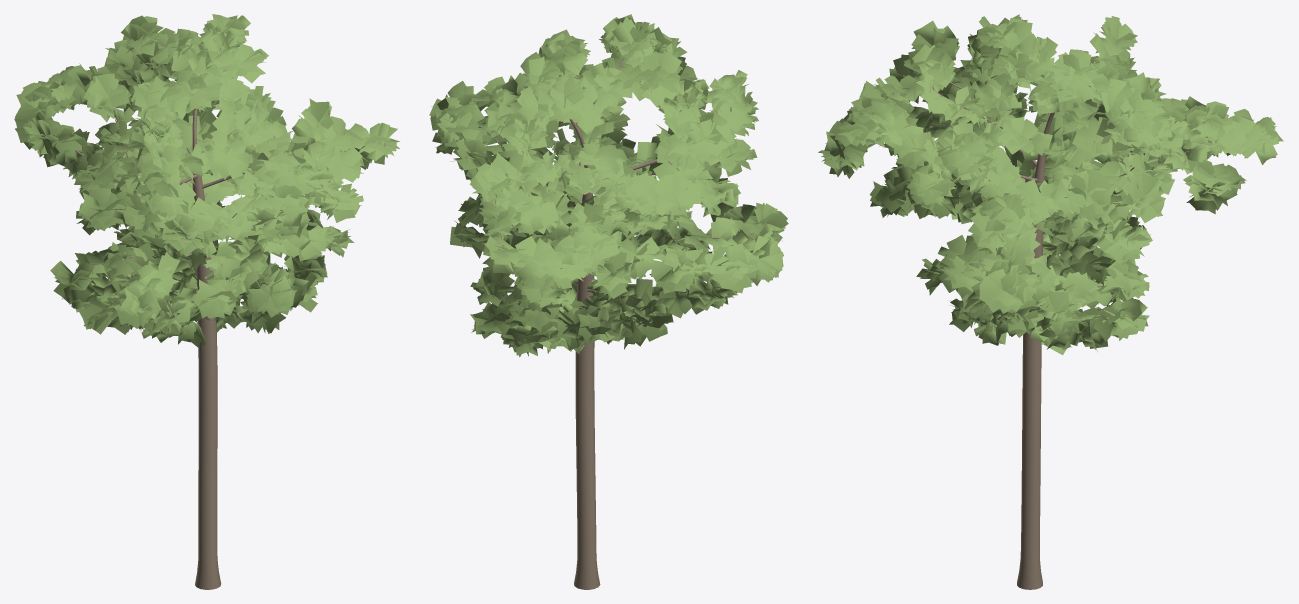
File: Pine_1_lod0.glb
3 renders of one model, left to right at view 1: azimuth 30°, elevation 25°; view 2: azimuth 150°, elevation 25°; view 3: azimuth 270°, elevation 25°, orthographic.
Parts seen in each view (by area): view 1: Pine_1_lod0; view 2: Pine_1_lod0; view 3: Pine_1_lod0.
Part boxes in pixels (left/top/right/bottom): Pine_1_lod0: left=14, top=14, right=399, bottom=589; Pine_1_lod0: left=429, top=14, right=788, bottom=589; Pine_1_lod0: left=818, top=14, right=1283, bottom=589.
Bounding box in the file's own units: 12.23 × 19.12 × 14.54.
